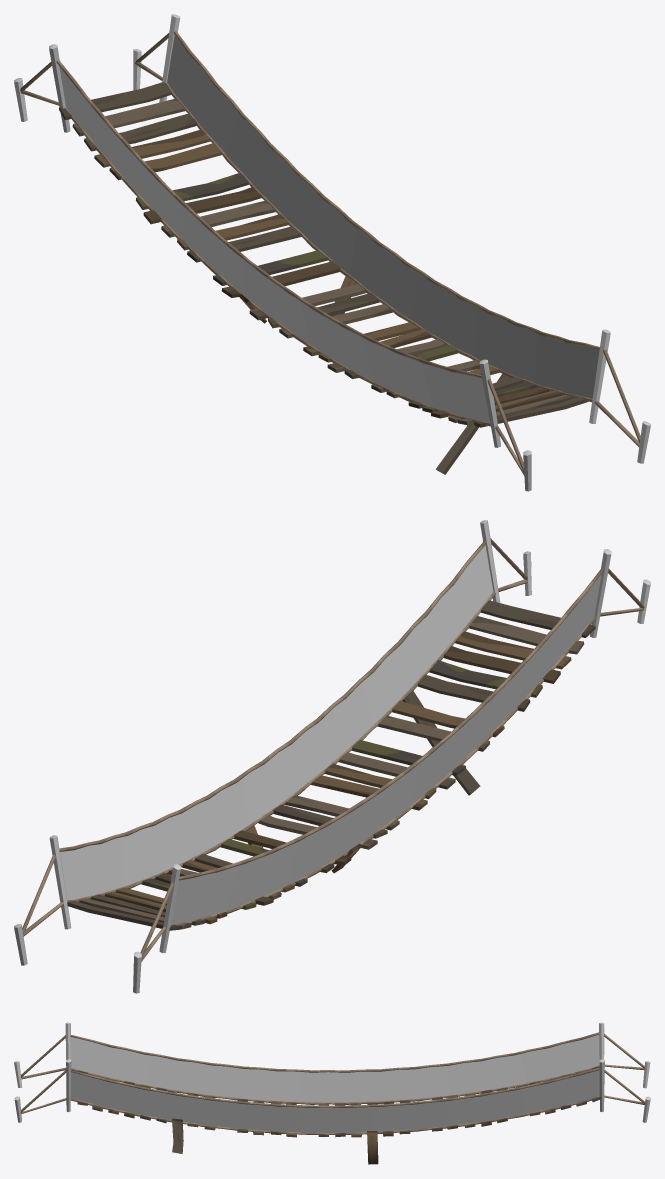
The model's file is SM_Bld_Ropebridge_Damaged_02.fbx.
3 views of the same model, one above another, from view 1: azimuth 30°, elevation 25°; view 2: azimuth 150°, elevation 25°; view 3: azimuth 270°, elevation 25° (orthographic). The views are drawn at different scales.
Parts seen in each view (by area): view 1: SM_Bld_Ropebridge_Damaged_02; view 2: SM_Bld_Ropebridge_Damaged_02; view 3: SM_Bld_Ropebridge_Damaged_02.
Boxes of the visible parts, <box> form: SM_Bld_Ropebridge_Damaged_02: <box>14,14,650,491</box>; SM_Bld_Ropebridge_Damaged_02: <box>14,520,650,993</box>; SM_Bld_Ropebridge_Damaged_02: <box>14,1022,650,1164</box>.
Size of the model in its own units: 258 by 356 by 1750.
